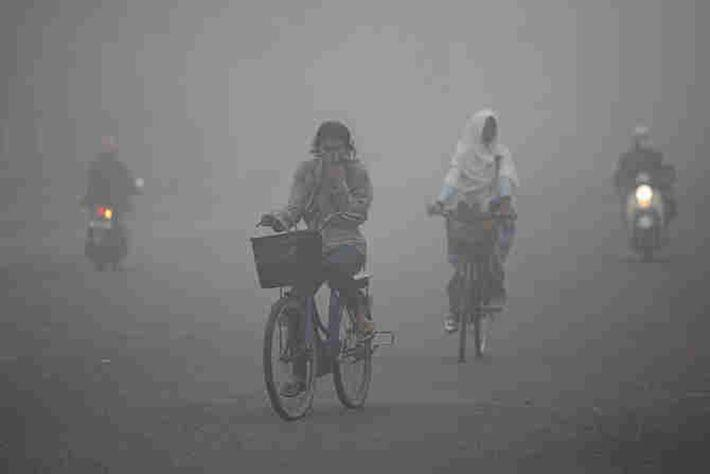Kendaraan: (250, 215, 399, 422), (439, 198, 511, 365), (619, 177, 674, 263), (82, 191, 134, 272)
Manusia: (257, 119, 376, 370), (426, 108, 519, 335), (79, 130, 142, 236), (612, 125, 677, 222)
